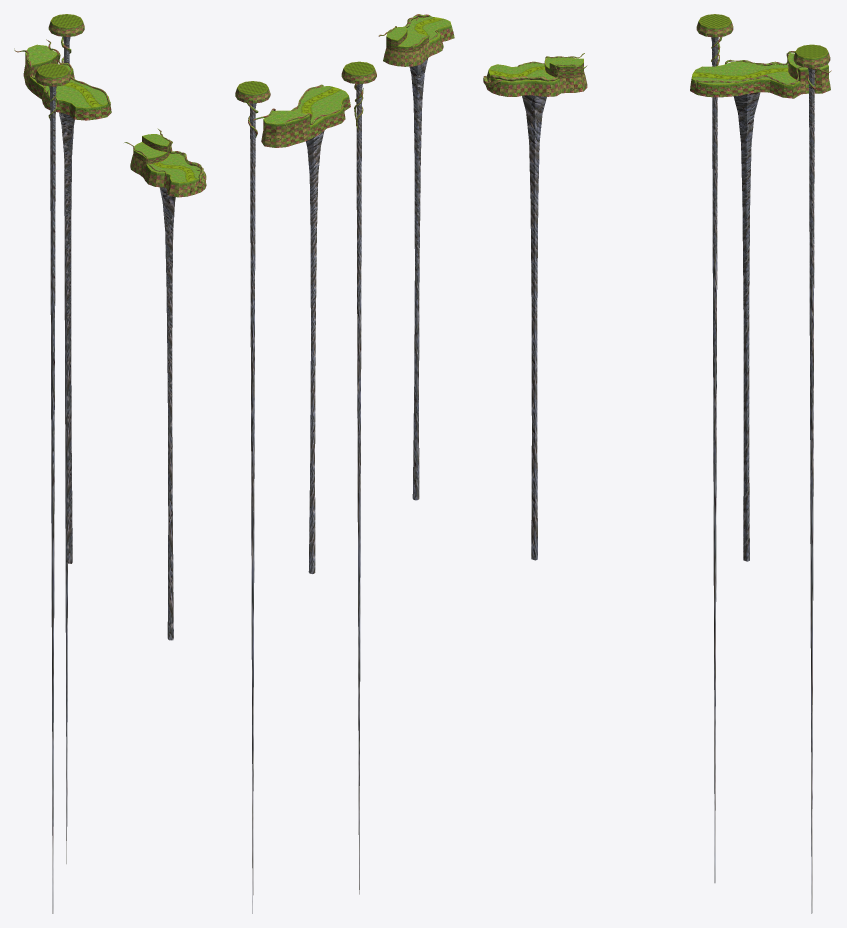
Rendered from 2P_Frog_forest6.obj.
The picture shows the model from 3 angles, left to right: view 1: azimuth 30°, elevation 25°; view 2: azimuth 150°, elevation 25°; view 3: azimuth 270°, elevation 25°; orthographic projection. The views are drawn at different scales.
Parts seen in each view (by area): view 1: Object_2, obj1; view 2: Object_2, obj1; view 3: Object_2, obj1.
Boxes of the visible parts, x1=… form: Object_2: x1=14, y1=21, x2=206, y2=913; obj1: x1=25, y1=14, x2=200, y2=182; Object_2: x1=235, y1=14, x2=454, y2=913; obj1: x1=237, y1=16, x2=451, y2=135; Object_2: x1=483, y1=21, x2=831, y2=913; obj1: x1=488, y1=14, x2=828, y2=85.
Size of the model in its own units: 664 by 5794 by 2128.
25 materials, 25 textured.
